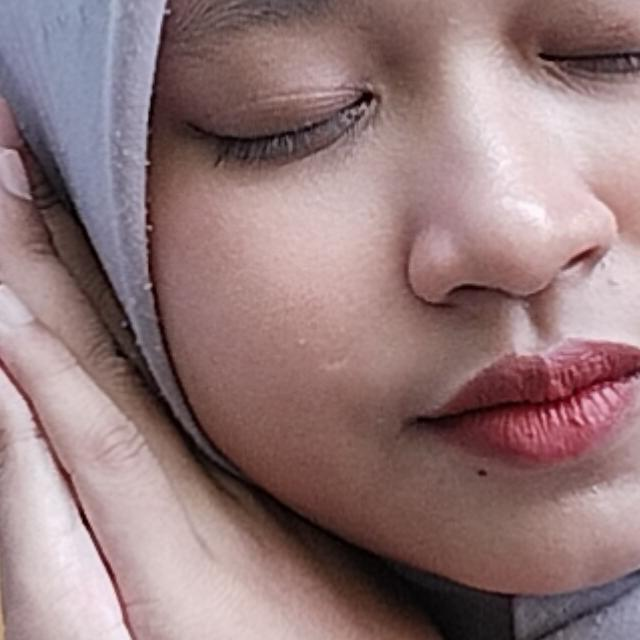tidur: (0, 38, 596, 640)
